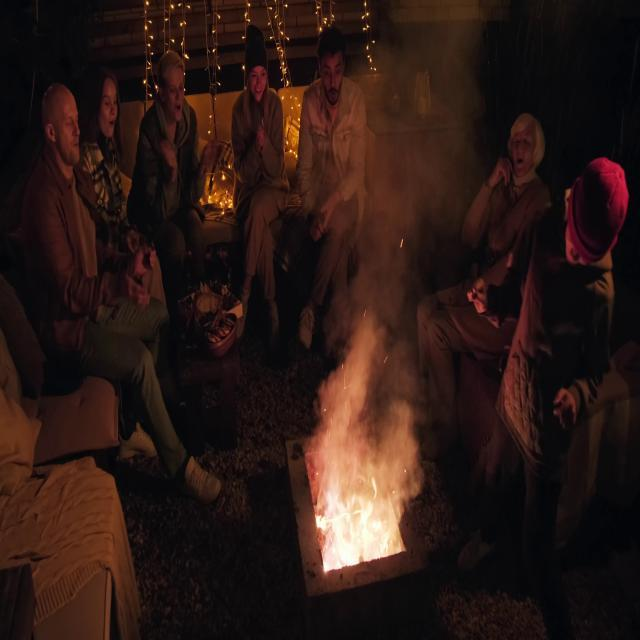Fire: (317, 484, 404, 569)
Smoke: (338, 0, 500, 301), (314, 298, 464, 477)
